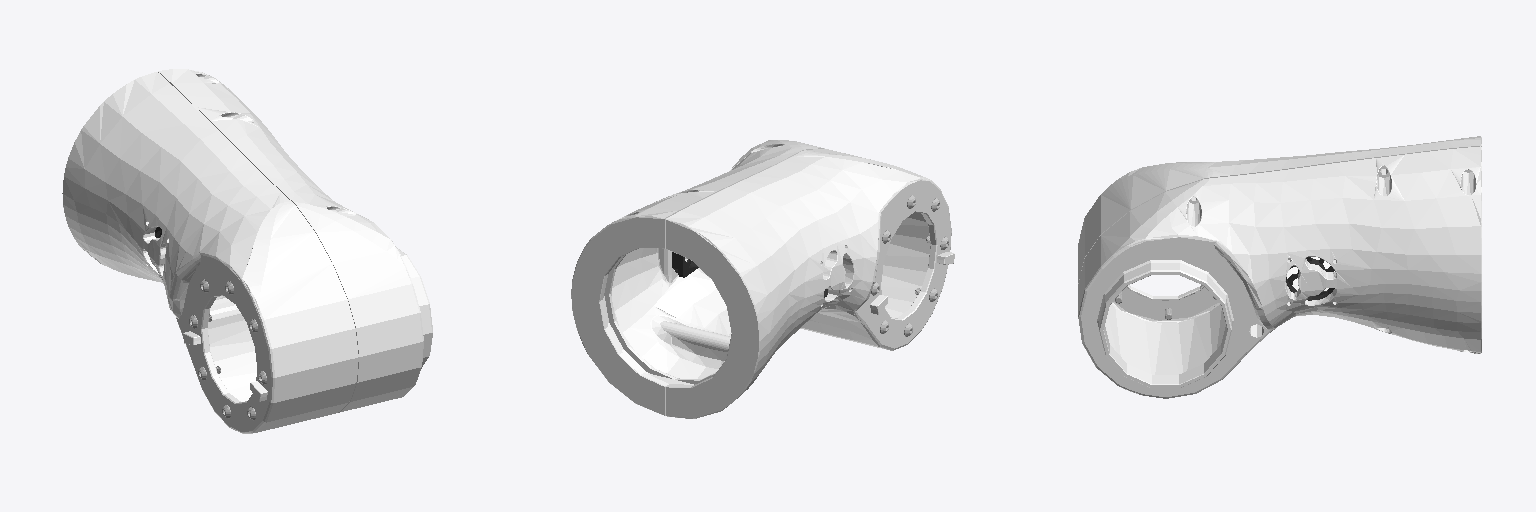
Rendered from left_arm_sho3.obj.
3 renders of one model, left to right at view 1: azimuth 30°, elevation 25°; view 2: azimuth 150°, elevation 25°; view 3: azimuth 270°, elevation 25°, orthographic.
Visible parts, largest first — view 1: left_arm_sho3; view 2: left_arm_sho3; view 3: left_arm_sho3.
Part boxes in pixels (left/top/right/bottom): left_arm_sho3: left=62, top=69, right=432, bottom=433; left_arm_sho3: left=571, top=140, right=954, bottom=418; left_arm_sho3: left=1078, top=136, right=1481, bottom=398.
Size of the model in its own units: 0.1169 by 0.1285 by 0.2123.